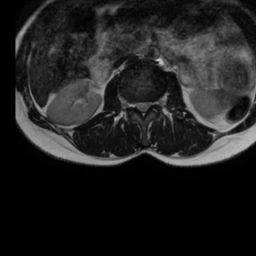CCS_normal: (139, 96, 146, 121)
LFS_severe_stenosis: (152, 94, 157, 111)
LLS_stenosis: (146, 95, 152, 115)
RFS_stenosis: (128, 97, 134, 116)
RLS_stenosis: (134, 96, 140, 116)
